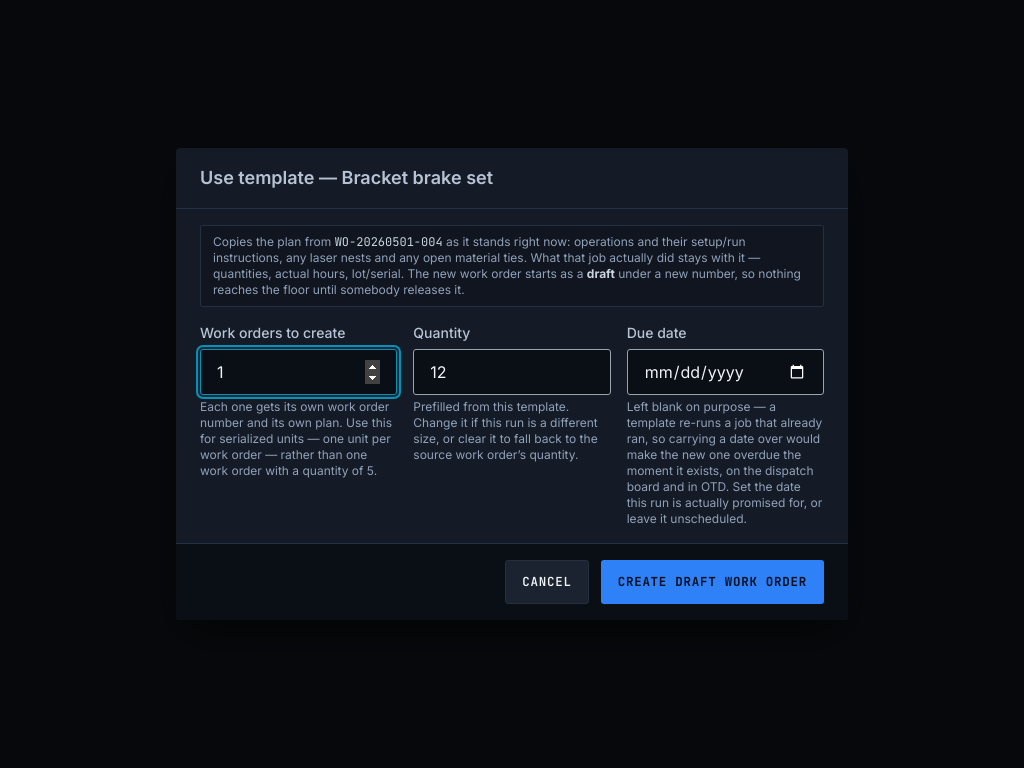
Test: UseTemplateModal: a partial copy stops the flow › swaps the form for a RESULT view naming the new work order
Click the button "Create draft work order" at (712, 582), box [601,560,824,604]
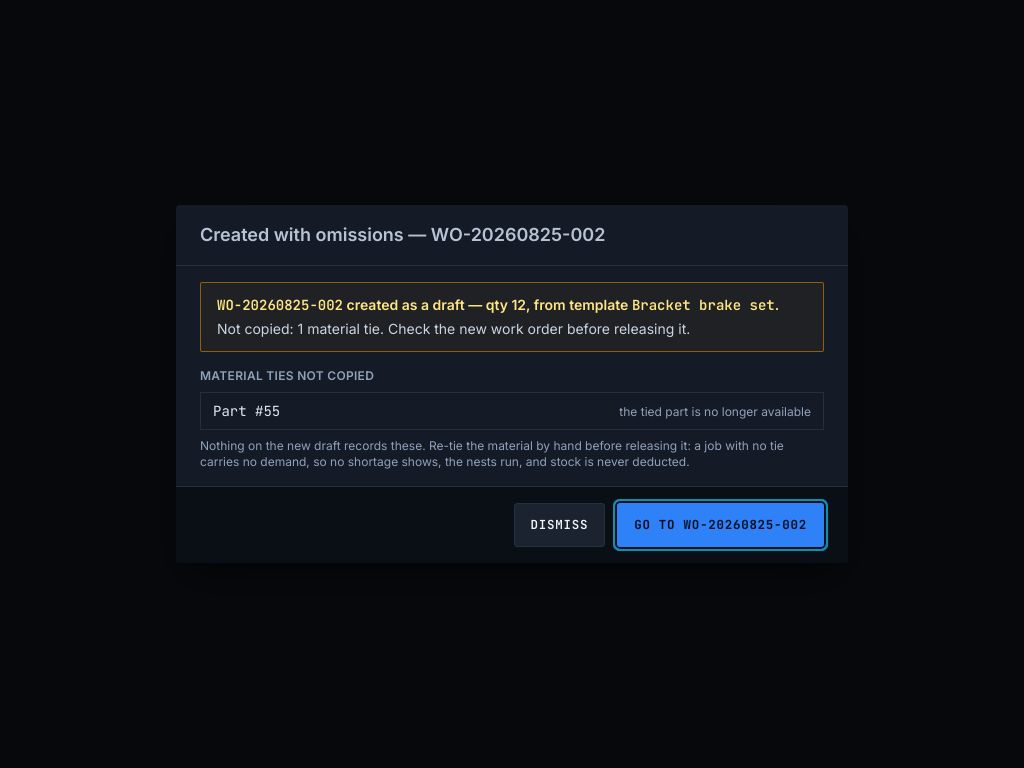
Check: the heading "Created with omissions — WO-20260825-002" is shown, box [200,221,605,249]
Check: the heading "Use template — Bracket brake set" is gone
Check: the text labelled "Quantity" is gone
